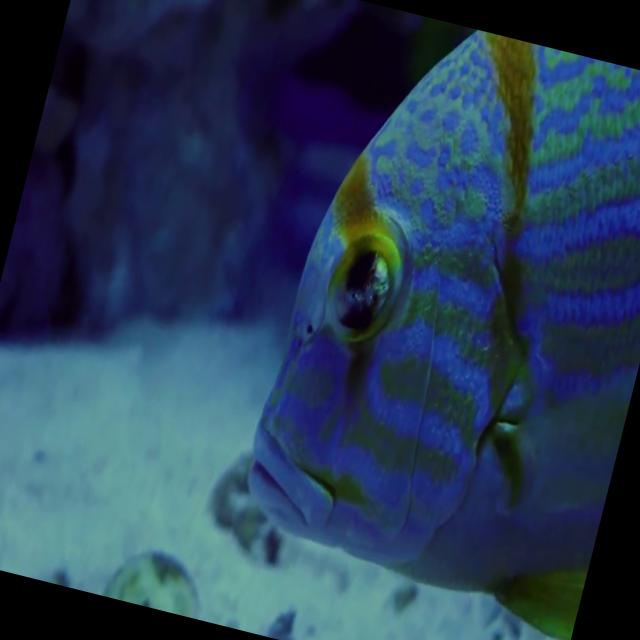fish: (228, 1, 640, 638)
